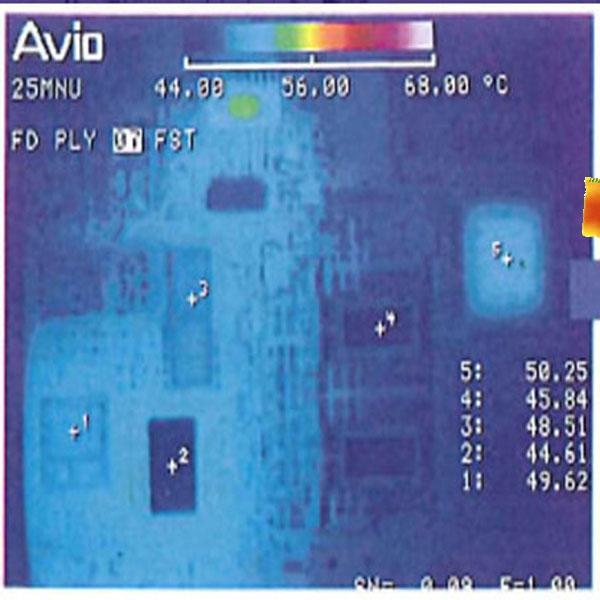componente_T: (287, 22, 352, 53), (577, 173, 600, 241)
